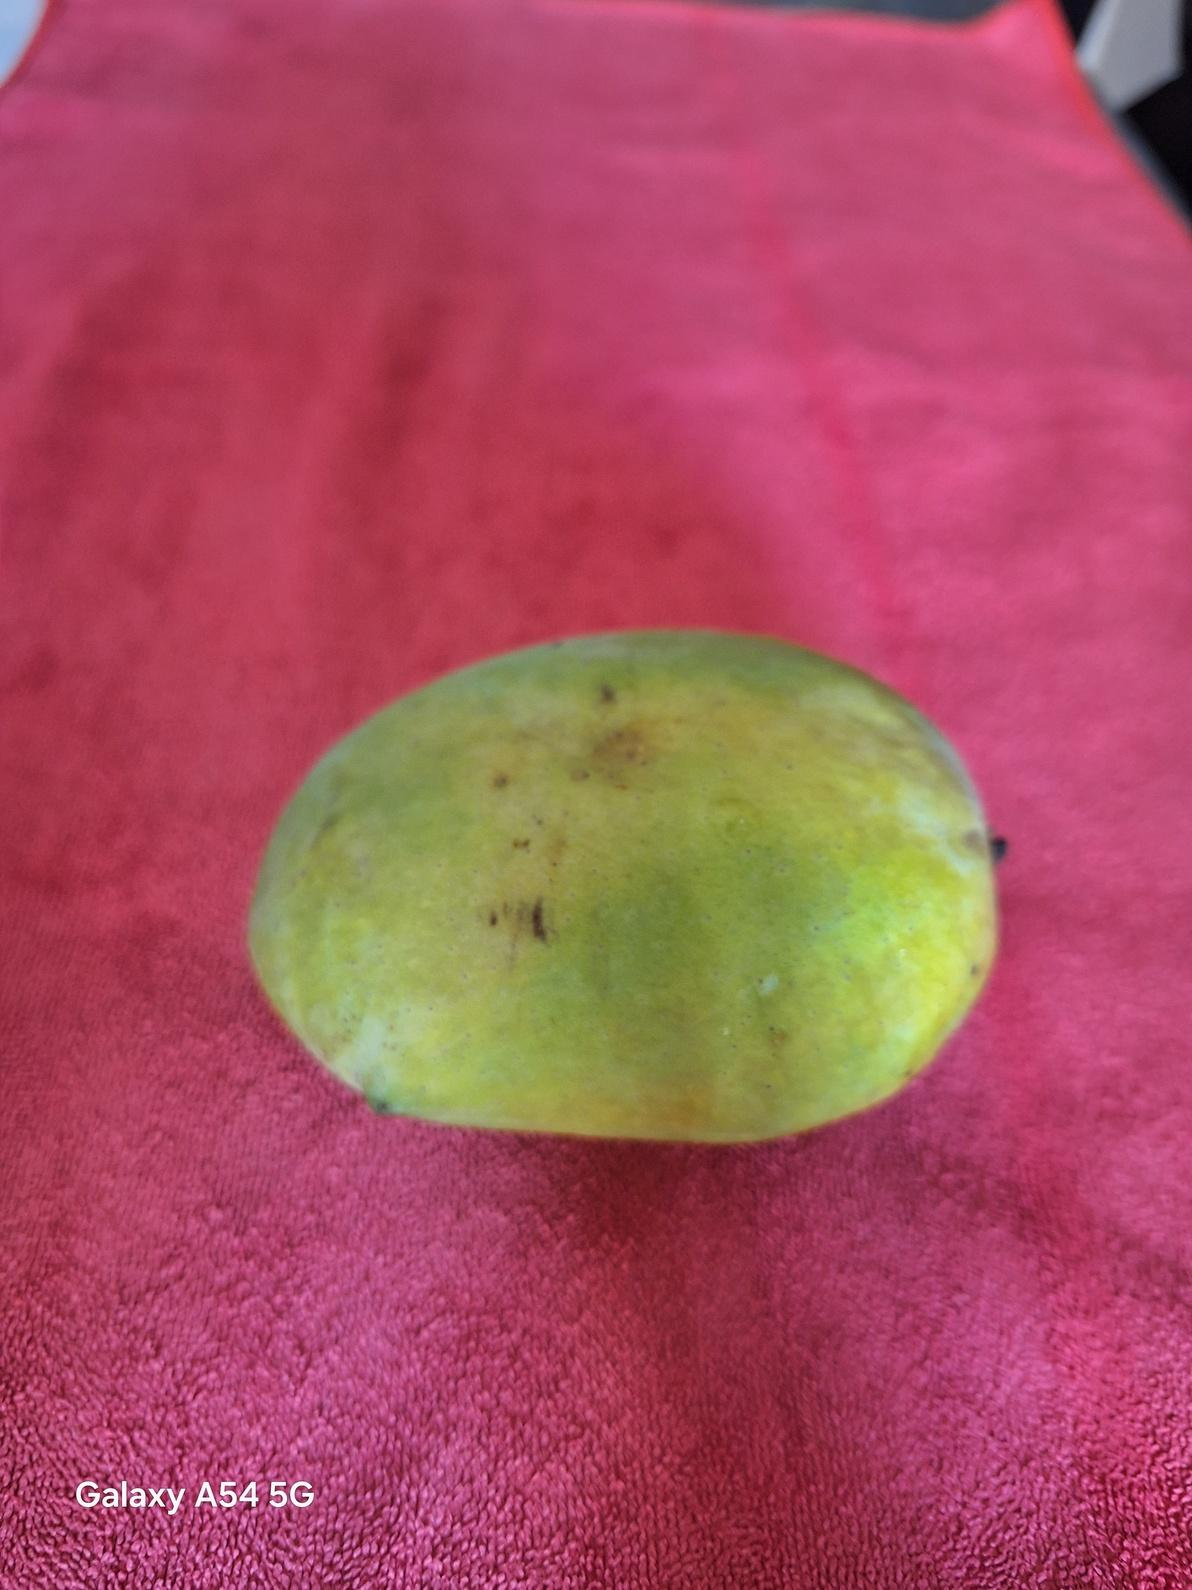mango: (244, 625, 1002, 1146)
